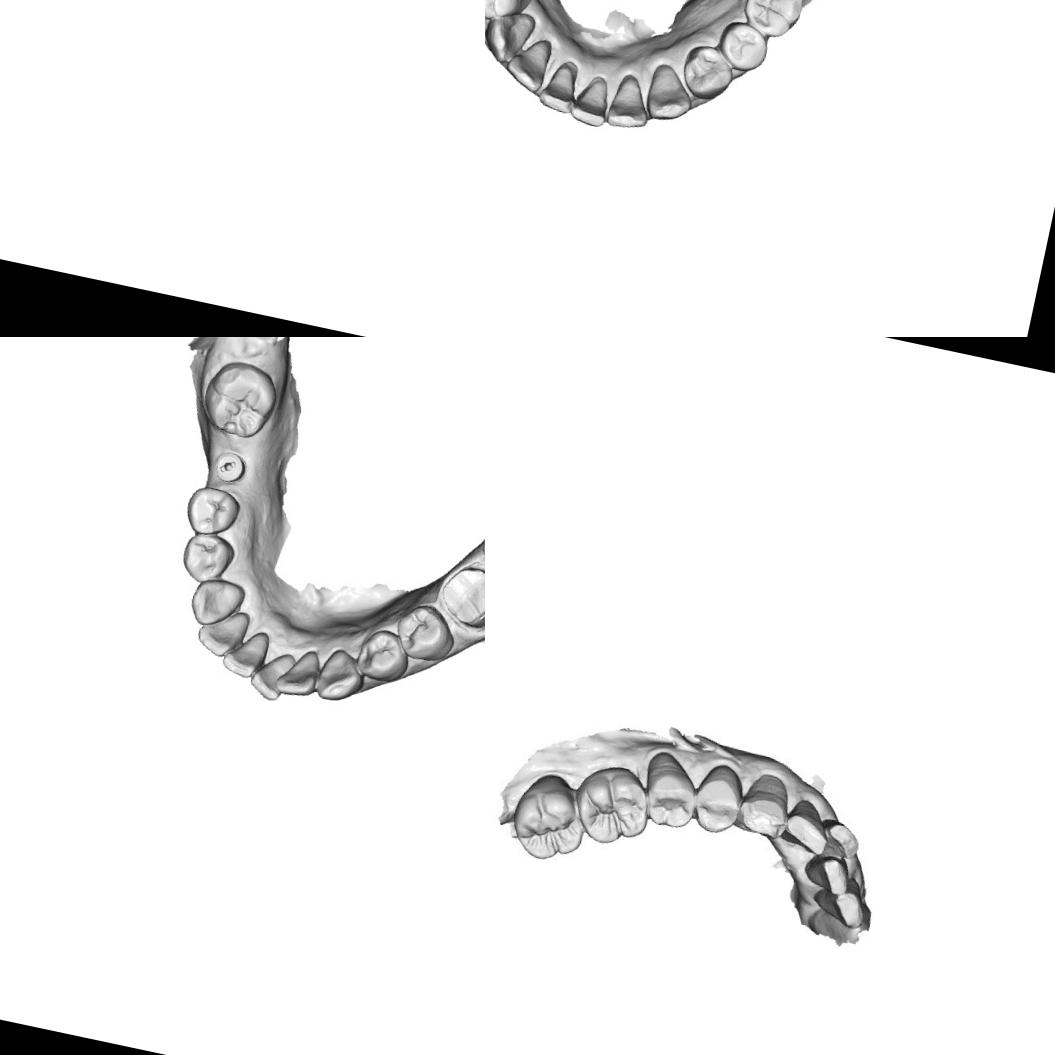canine: (734, 768, 792, 844), (640, 58, 699, 128), (185, 572, 249, 634), (313, 644, 371, 707), (485, 6, 540, 66)
crown: (432, 552, 485, 637)
implant_minus: (208, 442, 254, 492)
incisor: (192, 602, 254, 664), (244, 639, 296, 706), (218, 622, 272, 684), (566, 65, 616, 129), (272, 642, 325, 702), (779, 803, 836, 858), (503, 35, 552, 96), (606, 72, 654, 134), (532, 57, 582, 116), (816, 813, 863, 866), (804, 849, 850, 898), (822, 894, 866, 928)
molar: (195, 355, 282, 444), (574, 766, 652, 846), (513, 775, 587, 858), (740, 0, 805, 40)
premolar: (390, 598, 463, 667), (352, 622, 420, 690), (178, 481, 246, 544), (643, 755, 699, 826), (176, 527, 239, 589), (677, 40, 738, 102), (713, 16, 772, 76), (694, 766, 742, 828), (485, 0, 526, 25)
